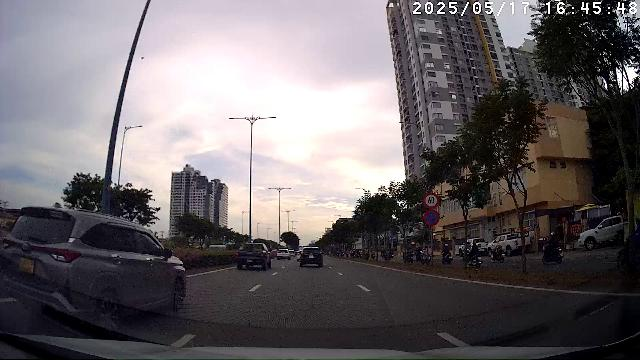127-toc-do-toi-da-60: (423, 192, 439, 208)
130-cam-dung-va-do-xe: (424, 209, 440, 226)
